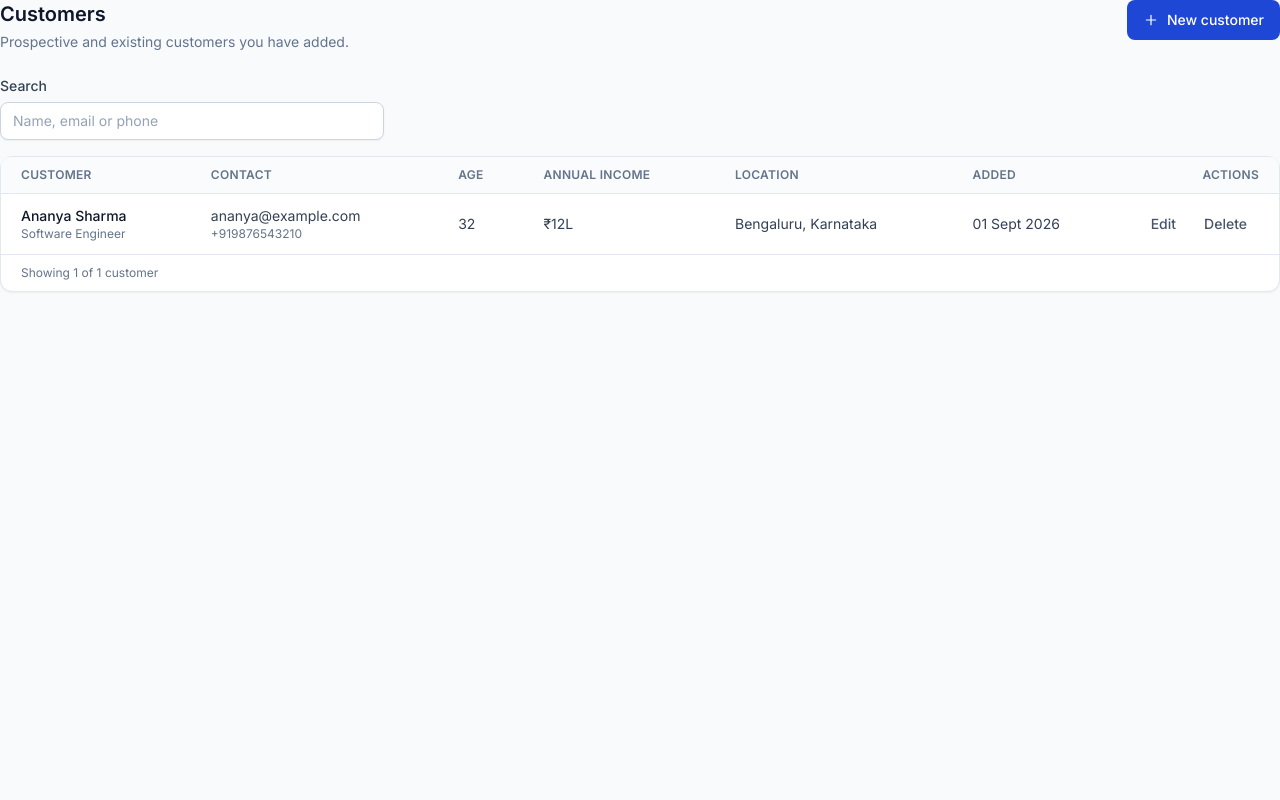
it: <CustomersPage /> row actions › keeps the dialog open and shows why when the server refuses
Expected: the text "ananya@example.com" is shown, x1=211 y1=207 x2=360 y2=224
Click the button with aria-label "Delete Ananya Sharma" at (1226, 224), box x1=1192 y1=208 x2=1259 y2=240
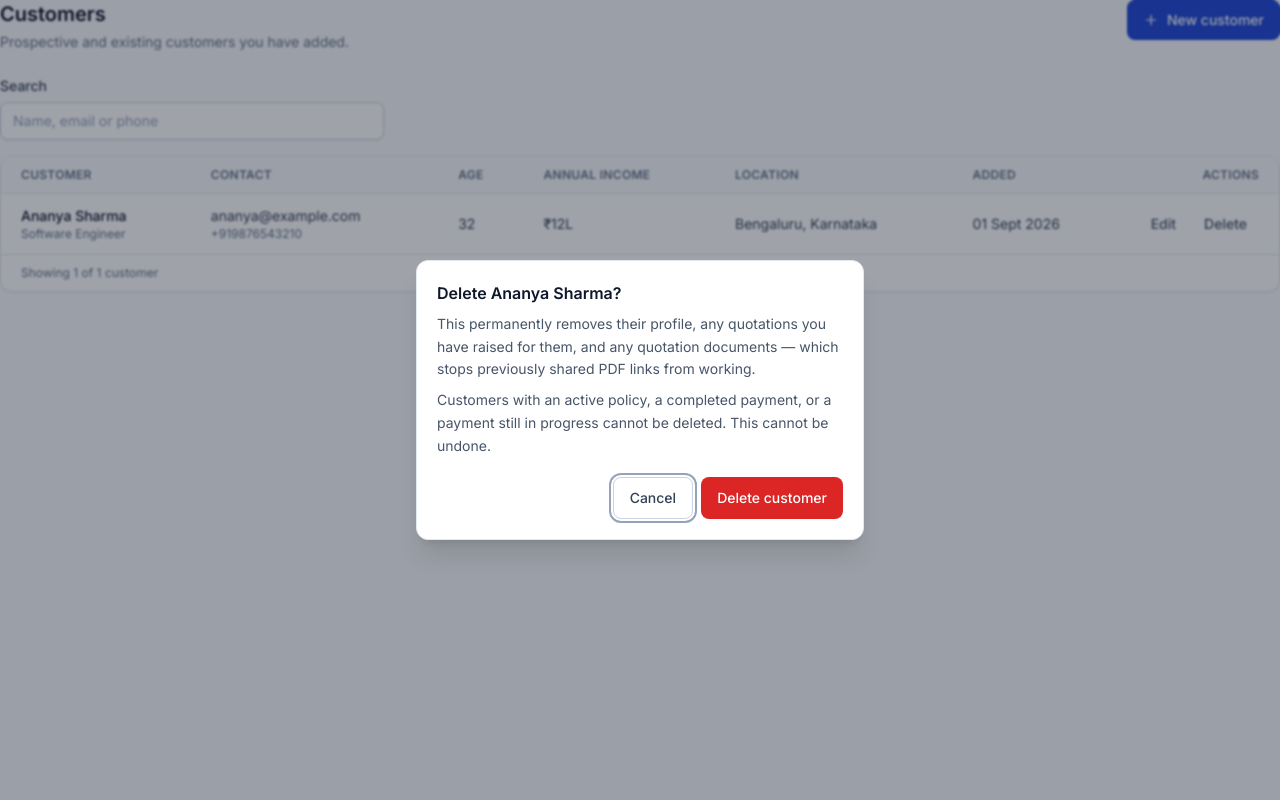
Click the button "Delete customer" at (772, 498), box x1=701 y1=477 x2=843 y2=519
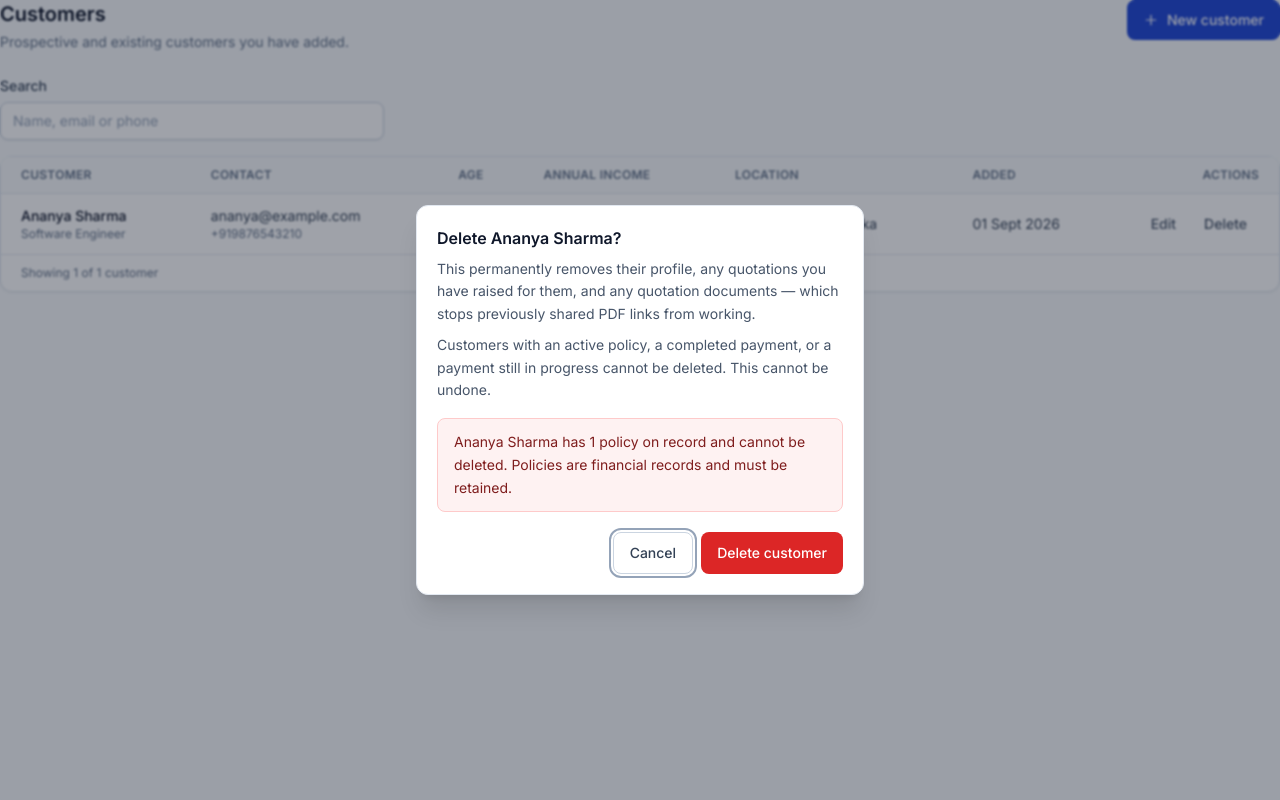
Expected: the text "ananya@example.com" is shown, x1=211 y1=207 x2=360 y2=224
Expected: the dialog is shown, x1=416 y1=205 x2=864 y2=595
Expected: the text "has 1 policy on record" is shown, x1=454 y1=433 x2=805 y2=496
